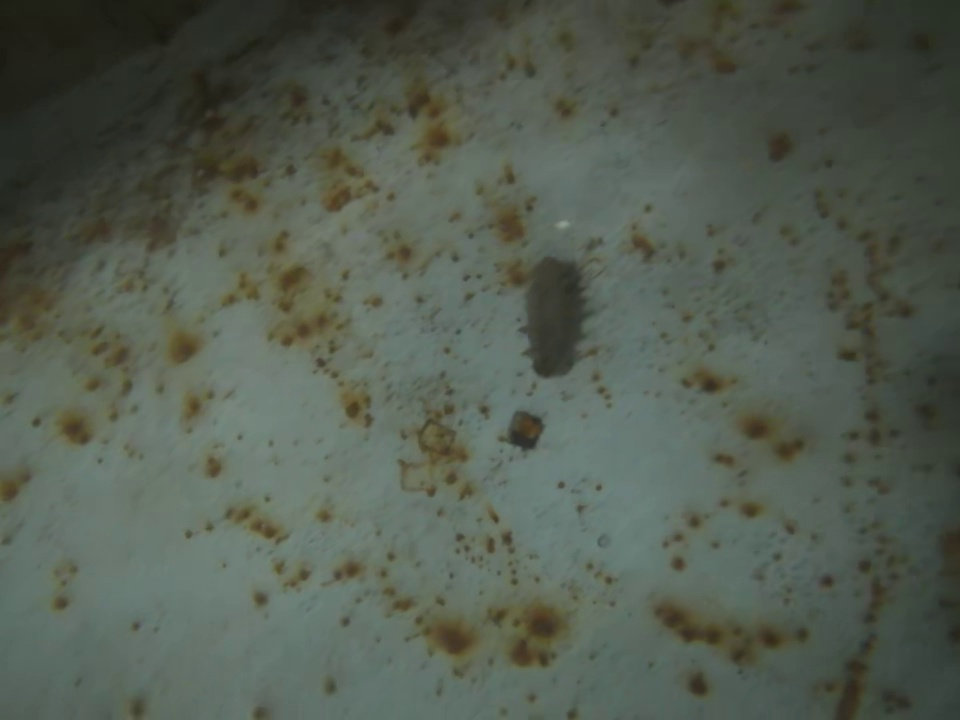seacucumber: (519, 254, 601, 382)
